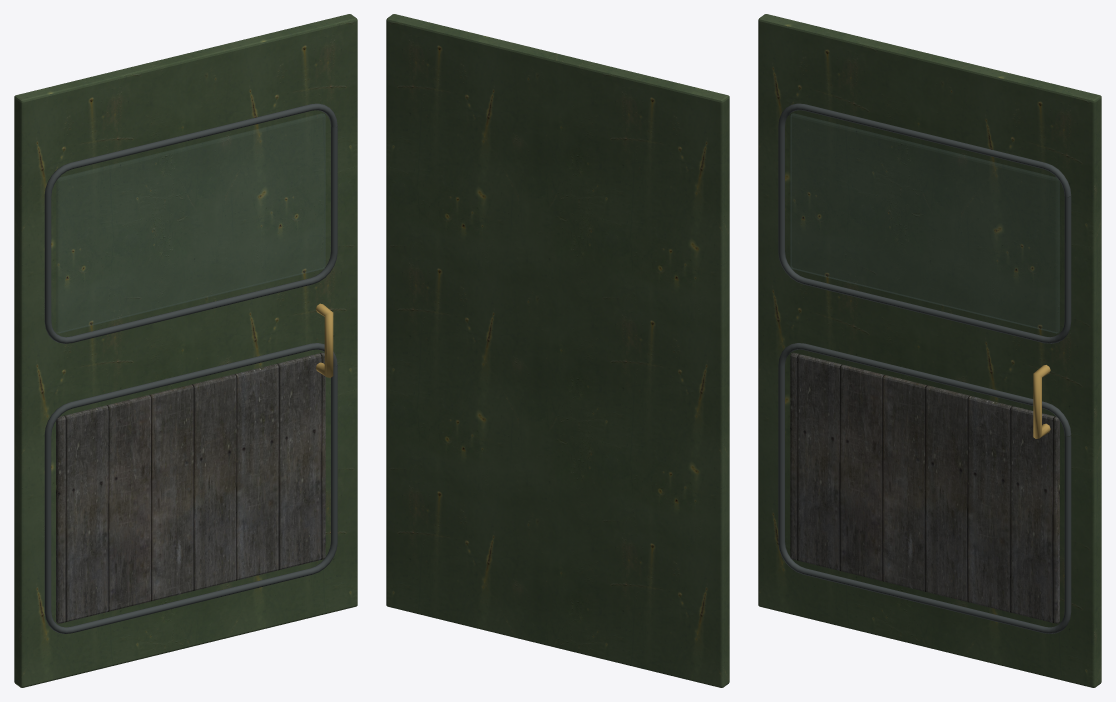
File: carriage_door.glb
3 renders of one model, left to right at view 1: azimuth 30°, elevation 25°; view 2: azimuth 150°, elevation 25°; view 3: azimuth 330°, elevation 25°, orthographic.
Parts seen in each view (by area): view 1: carriage_door; view 2: carriage_door; view 3: carriage_door.
Boxes of the visible parts, left/top/right/bottom form: carriage_door: left=14, top=14, right=357, bottom=687; carriage_door: left=386, top=14, right=729, bottom=687; carriage_door: left=758, top=14, right=1101, bottom=687.
Bounding box in the file's own units: 1.32 × 2.2 × 0.1595.
Materials: 5 (2 with a texture image).
